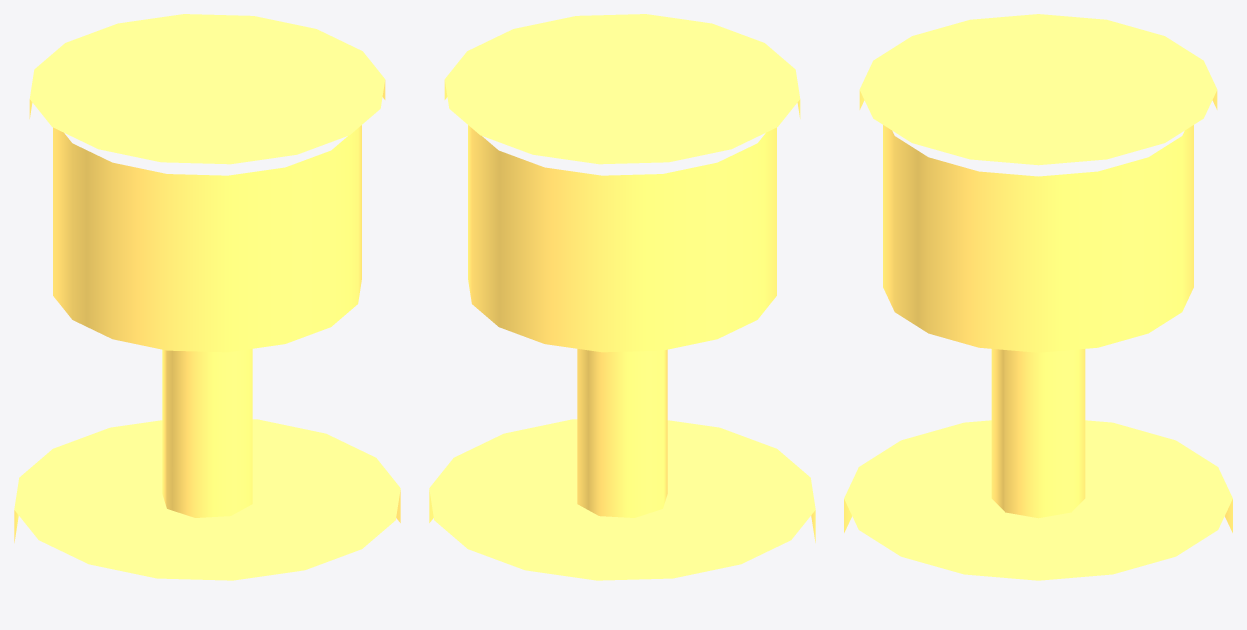
Rendered from grail.glb.
The picture shows the model from 3 angles, left to right: view 1: azimuth 30°, elevation 25°; view 2: azimuth 150°, elevation 25°; view 3: azimuth 270°, elevation 25°; orthographic projection.
Parts seen in each view (by area): view 1: part_2, part_3, part_0, part_1; view 2: part_2, part_3, part_0, part_1; view 3: part_2, part_3, part_0, part_1.
Boxes of the visible parts, x1=… form: part_2: x1=53, y1=125, x2=361, y2=352; part_3: x1=29, y1=14, x2=385, y2=164; part_0: x1=14, y1=419, x2=400, y2=580; part_1: x1=162, y1=349, x2=252, y2=517; part_2: x1=468, y1=125, x2=776, y2=352; part_3: x1=444, y1=14, x2=800, y2=164; part_0: x1=429, y1=419, x2=815, y2=580; part_1: x1=577, y1=349, x2=667, y2=517; part_2: x1=883, y1=125, x2=1193, y2=352; part_3: x1=859, y1=14, x2=1217, y2=165; part_0: x1=844, y1=420, x2=1232, y2=580; part_1: x1=991, y1=349, x2=1085, y2=518.
Size of the model in its own units: 0.5 by 0.63 by 0.5.
